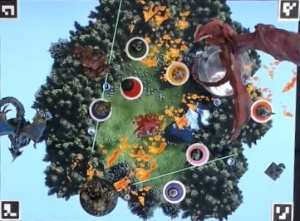blue: (90, 96, 114, 119)
green: (126, 36, 150, 59)
orange: (250, 98, 274, 123)
pink: (185, 141, 213, 166)
red: (118, 74, 147, 100)
violet: (163, 178, 187, 202)
yellow: (166, 59, 192, 85)
